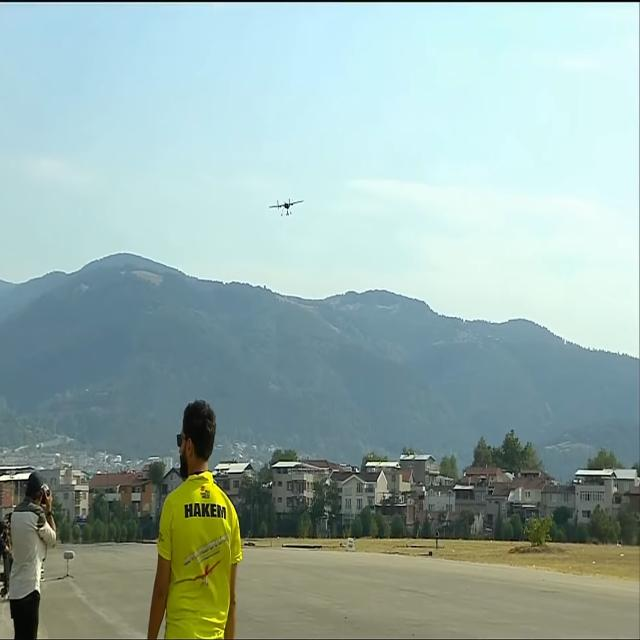iha: (269, 197, 303, 217)
